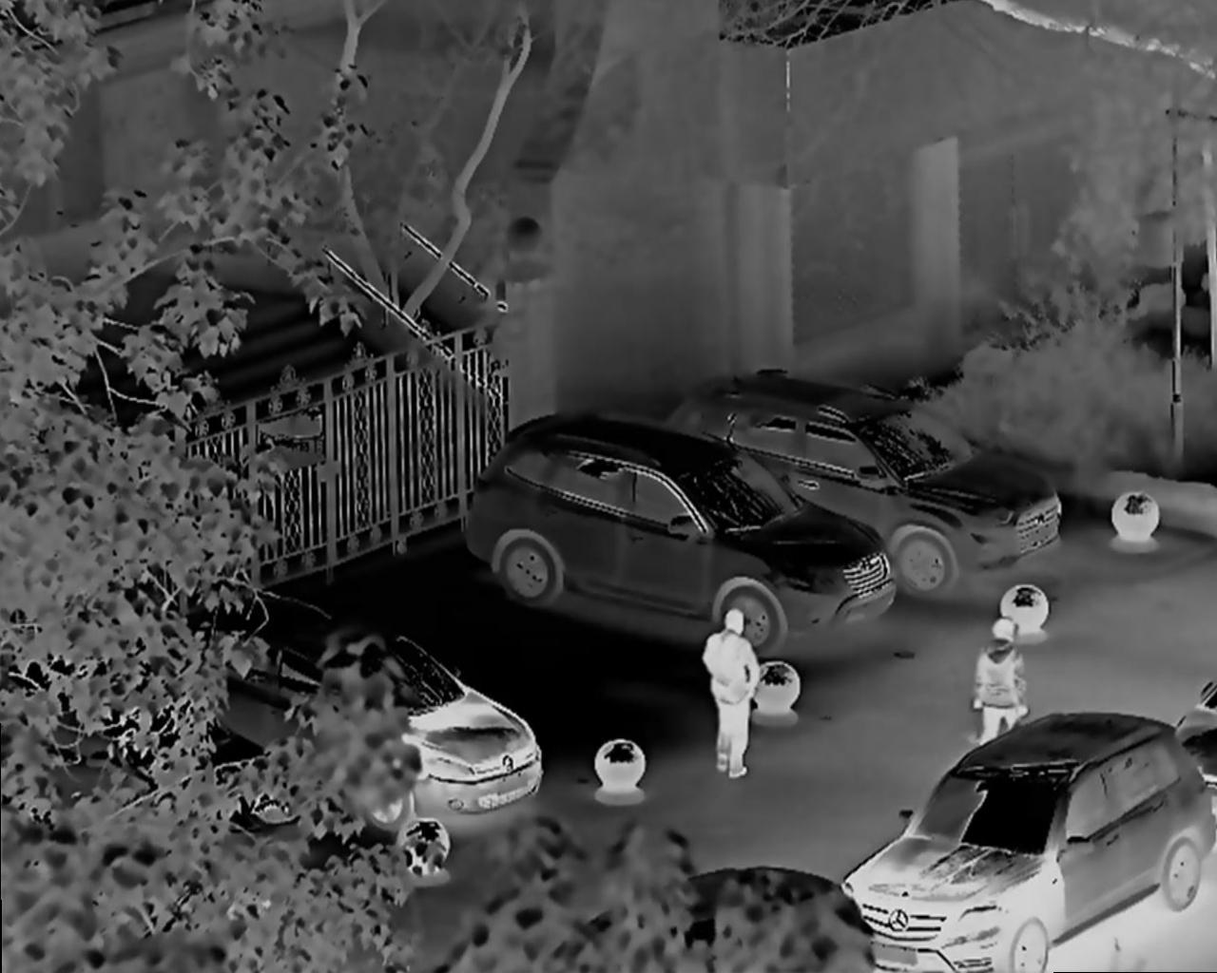person: (703, 604, 761, 784), (970, 620, 1028, 754)
